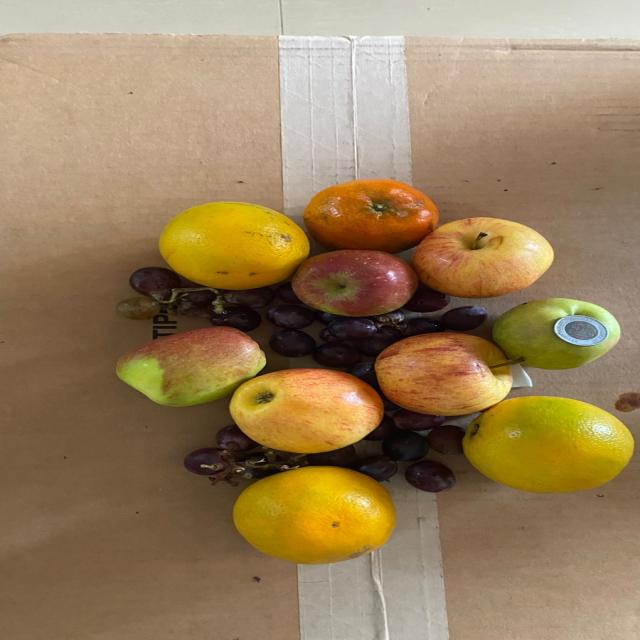moneda: (560, 314, 606, 349)
